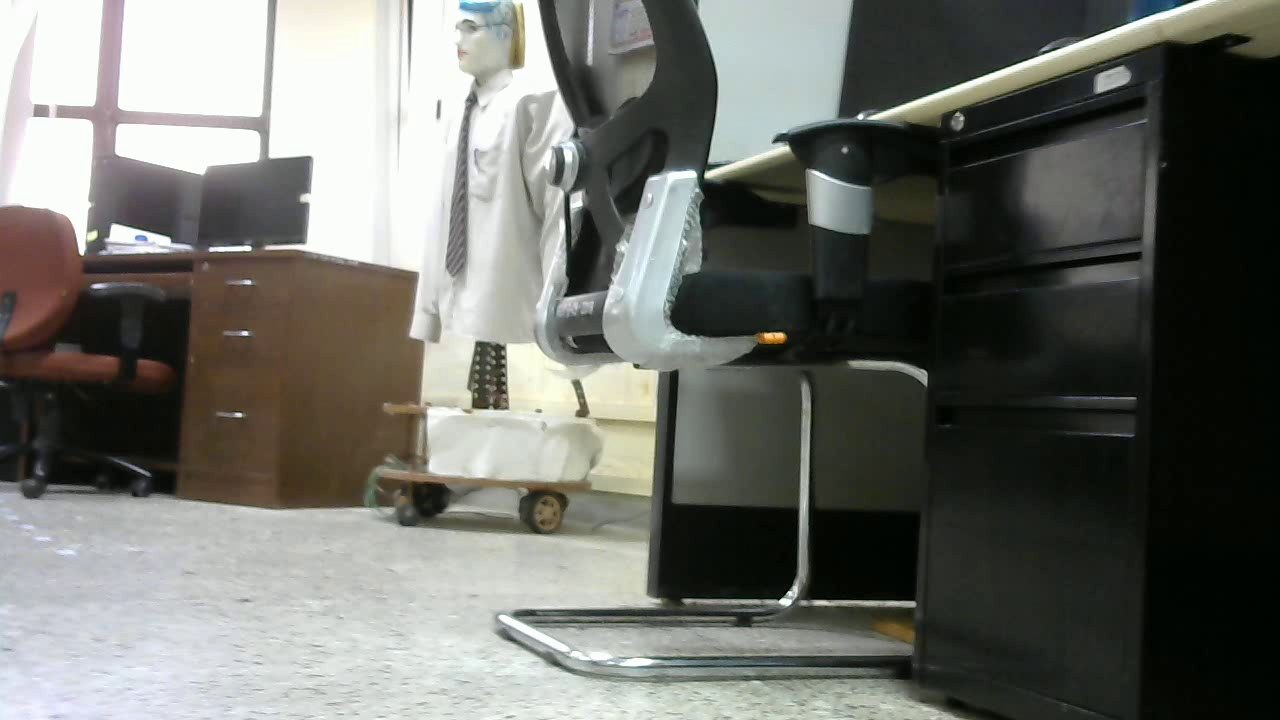chair: (493, 5, 941, 675), (1, 199, 184, 500)
